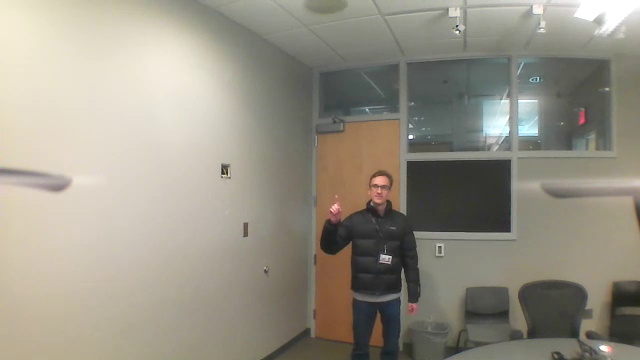up: (324, 193, 348, 224)
